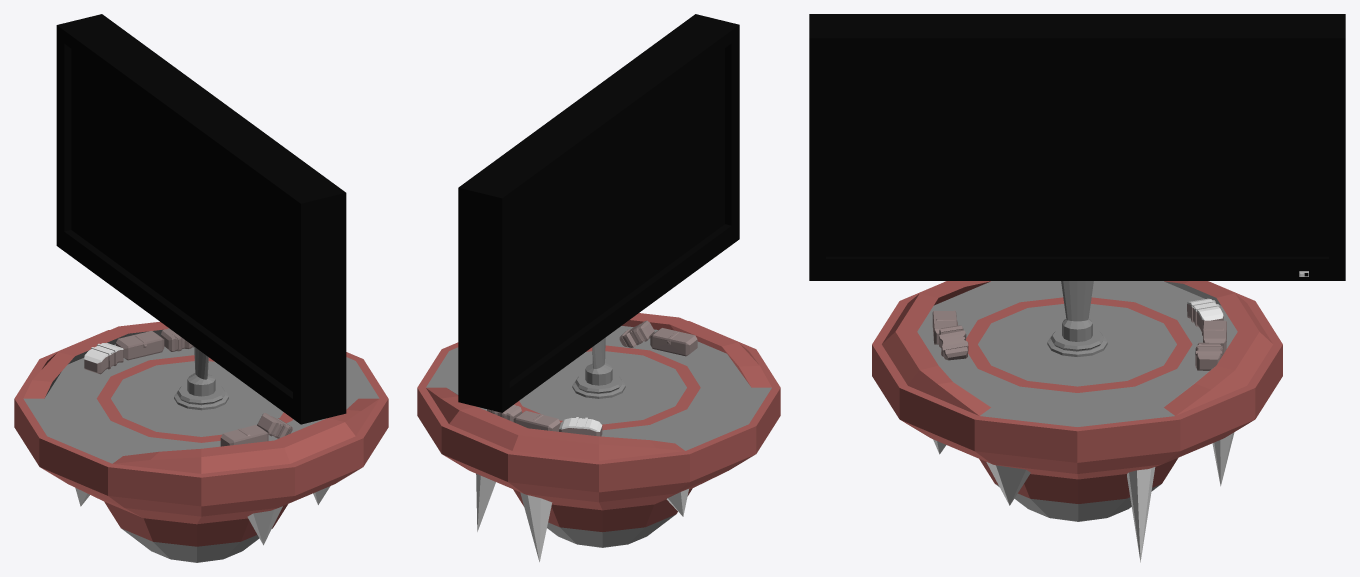
The picture shows the model from 3 angles, left to right: view 1: azimuth 30°, elevation 25°; view 2: azimuth 150°, elevation 25°; view 3: azimuth 270°, elevation 25°; orthographic projection. The views are drawn at different scales.
Parts seen in each view (by area): view 1: controle Panel, Train launch control Platform.001, Chest Model A.001, Ice.002; view 2: controle Panel, Train launch control Platform.001, Chest Model A.001, Ice.002; view 3: controle Panel, Train launch control Platform.001, Ice.002, Chest Model A.001.
Part boxes in pixels (x1,y1,x2,y2): controle Panel: [56, 14, 346, 424]; Train launch control Platform.001: [14, 321, 388, 562]; Chest Model A.001: [84, 328, 292, 446]; Ice.002: [75, 486, 330, 545]; controle Panel: [458, 14, 739, 412]; Train launch control Platform.001: [417, 313, 780, 547]; Chest Model A.001: [487, 320, 697, 436]; Ice.002: [476, 473, 688, 561]; controle Panel: [809, 14, 1345, 280]; Train launch control Platform.001: [872, 281, 1282, 521]; Ice.002: [933, 432, 1234, 562]; Chest Model A.001: [932, 304, 1226, 370].
Size of the model in its own units: 927 by 1239 by 1210.
